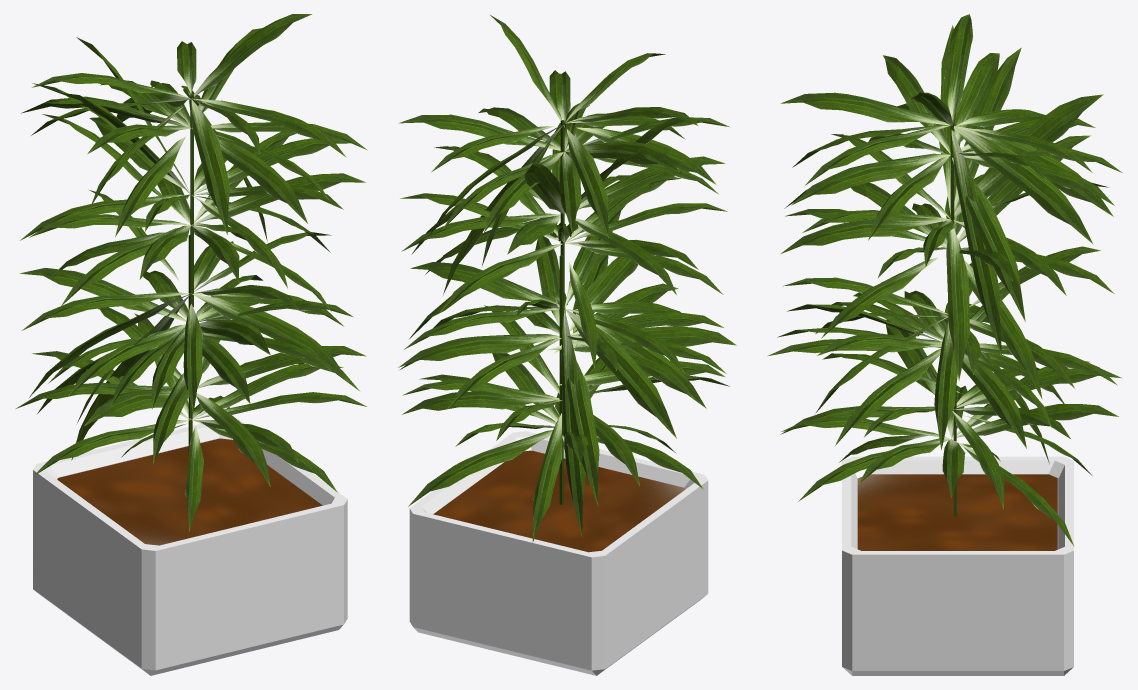
File: plant2.fbx
3 renders of one model, left to right at view 1: azimuth 30°, elevation 25°; view 2: azimuth 150°, elevation 25°; view 3: azimuth 270°, elevation 25°, orthographic. The views are drawn at different scales.
Visible parts, largest first — view 1: MSH_plant2; view 2: MSH_plant2; view 3: MSH_plant2.
Boxes of the visible parts, left/top/right/bottom form: MSH_plant2: left=15, top=14, right=367, bottom=675; MSH_plant2: left=398, top=14, right=736, bottom=675; MSH_plant2: left=767, top=14, right=1122, bottom=675.
Bounding box in the file's own units: 4.17 × 7.71 × 4.32.
